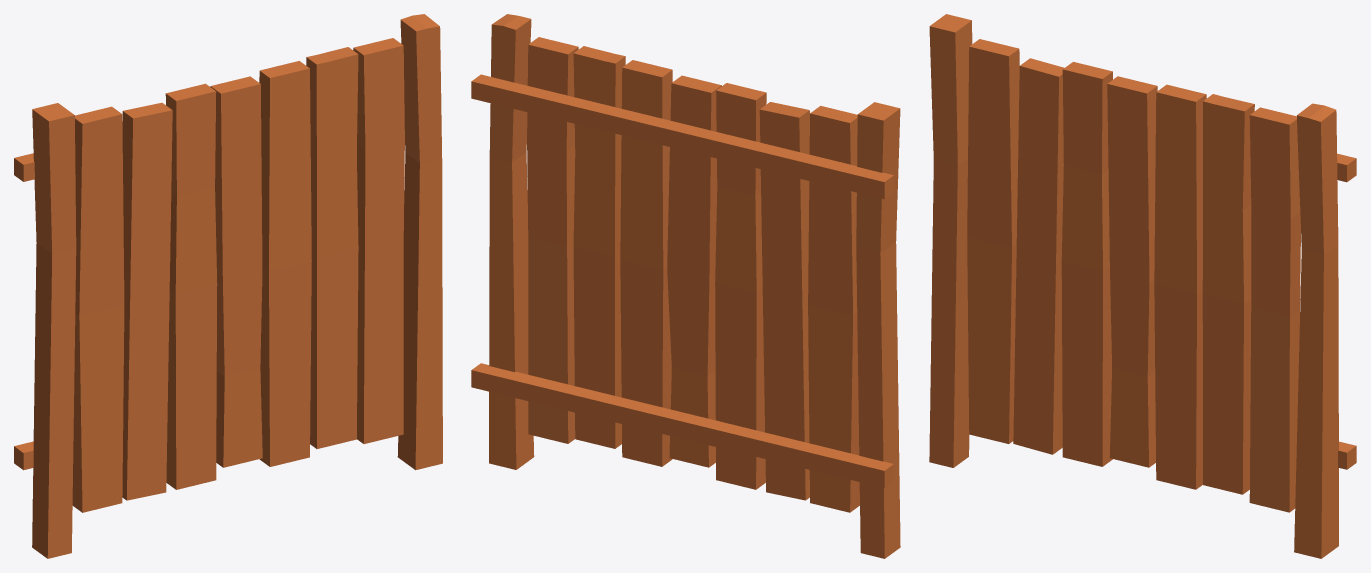
Rendered from Wood Fence 1.glb.
3 views of the same model, side by side, from view 1: azimuth 30°, elevation 25°; view 2: azimuth 150°, elevation 25°; view 3: azimuth 330°, elevation 25° (orthographic).
Visible parts, largest first — view 1: WoodFence1; view 2: WoodFence1; view 3: WoodFence1.
Part boxes in pixels (left/top/right/bottom): WoodFence1: left=14, top=14, right=442, bottom=558; WoodFence1: left=471, top=14, right=900, bottom=558; WoodFence1: left=929, top=14, right=1356, bottom=558.
Size of the model in its own units: 2 by 2.04 by 0.2176.
